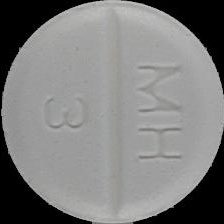0615-7559: (0, 0, 224, 224)
